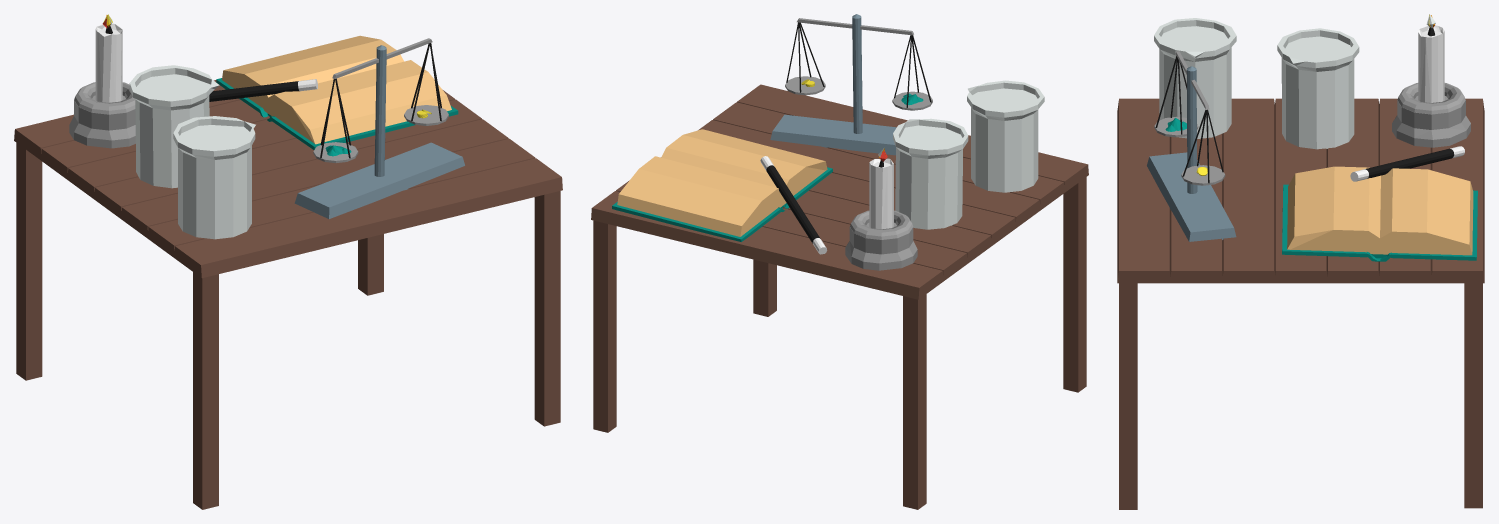
The model's file is wizard_table.glb.
3 renders of one model, left to right at view 1: azimuth 30°, elevation 25°; view 2: azimuth 150°, elevation 25°; view 3: azimuth 270°, elevation 25°, orthographic. The views are drawn at different scales.
Parts seen in each view (by area): view 1: group1451185089, group681728191, group1538916877, group1700564731, group1365531588, group2143320339, group1221069369, group982605879, group232372156, group1069467270, group701554734, group691122010 (+7 smaller); view 2: group681728191, group271774997, group1538916877, group1365531588, group982605879, group1069467270, group49576262, group1700564731, group232372156, group2143320339, group1451185089, group1944358749 (+7 smaller); view 3: group681728191, group2143320339, group1451185089, group1365531588, group1538916877, group1069467270, group1700564731, group1221069369, group49576262, group271774997, group701554734, group1944358749 (+6 smaller).
Boxes of the visible parts, x1,y1,x2,y2 form: group1451185089: [174, 158, 562, 278]; group681728191: [222, 35, 451, 144]; group1538916877: [173, 116, 255, 239]; group1700564731: [294, 38, 464, 218]; group1365531588: [129, 65, 219, 188]; group2143320339: [121, 119, 508, 238]; group1221069369: [534, 191, 560, 426]; group982605879: [16, 143, 42, 380]; group232372156: [193, 272, 218, 509]; group1069467270: [69, 14, 135, 148]; group701554734: [94, 99, 481, 218]; group691122010: [147, 138, 535, 258]; group681728191: [617, 129, 827, 236]; group271774997: [591, 191, 943, 299]; group1538916877: [967, 80, 1044, 192]; group1365531588: [893, 118, 968, 229]; group982605879: [903, 294, 926, 509]; group1069467270: [845, 148, 917, 270]; group49576262: [593, 220, 616, 432]; group1700564731: [770, 14, 913, 155]; group232372156: [1063, 177, 1086, 392]; group2143320339: [698, 120, 1039, 228]; group1451185089: [737, 84, 1088, 192]; group1944358749: [783, 190, 991, 263]; group681728191: [1287, 166, 1473, 255]; group2143320339: [1222, 98, 1275, 283]; group1451185089: [1117, 98, 1170, 283]; group1365531588: [1277, 28, 1359, 149]; group1538916877: [1154, 18, 1236, 138]; group1069467270: [1392, 14, 1470, 147]; group1700564731: [1147, 51, 1236, 241]; group1221069369: [1119, 283, 1137, 509]; group49576262: [1464, 283, 1482, 508]; group271774997: [1430, 98, 1484, 283]; group701554734: [1274, 98, 1327, 283]; group1944358749: [1327, 98, 1379, 283].
Size of the model in its own units: 2.42 by 2.47 by 2.18.
